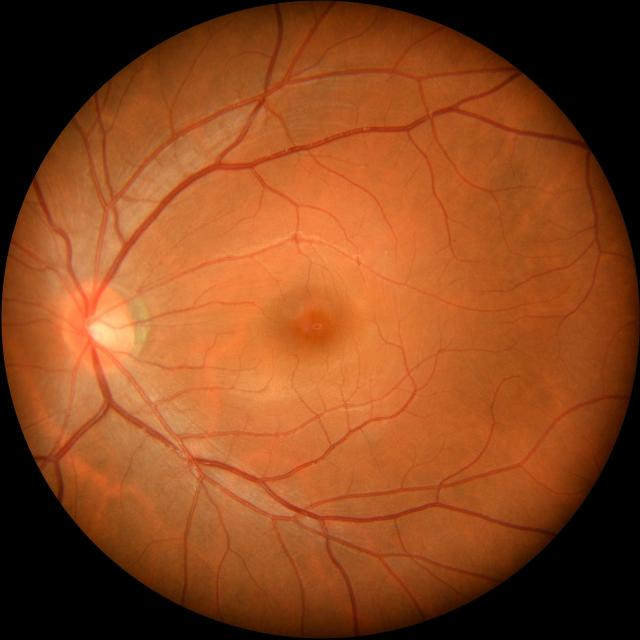OC: (83, 310, 120, 350)
OD: (59, 283, 135, 372)
